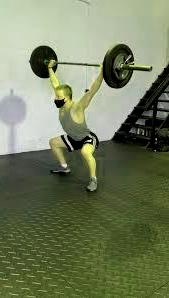Barbell: (114, 62, 156, 77)
